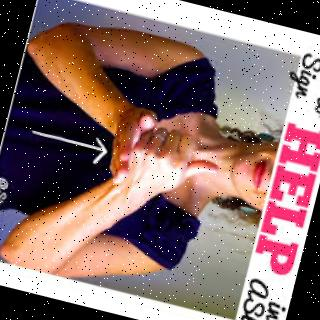Help: (101, 95, 229, 220)
